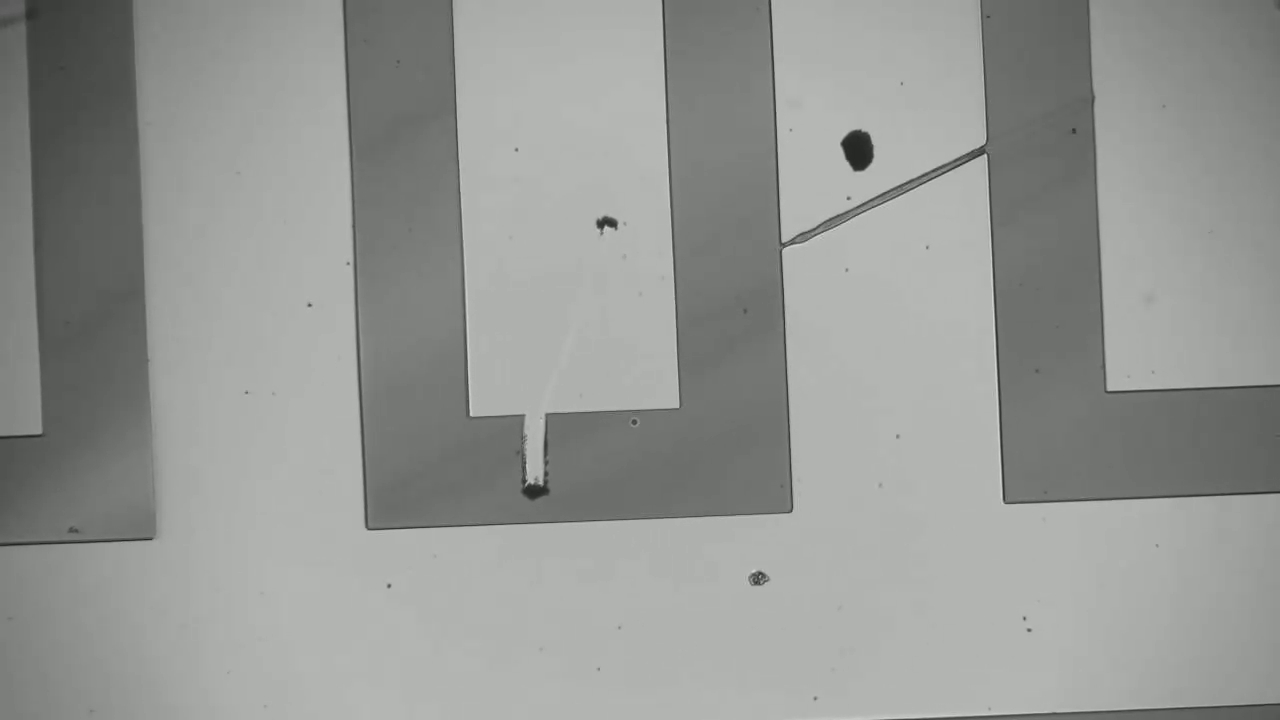Short_circuit: (504, 391, 583, 542)
